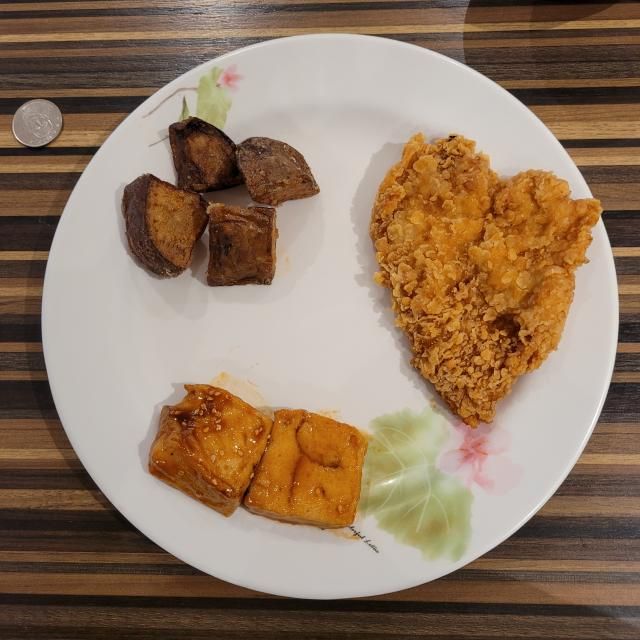coin: (12, 99, 62, 148)
creamy tofu: (149, 384, 368, 529)
fried chicken cutlet: (370, 134, 601, 428)
fried potato: (121, 118, 320, 286)
